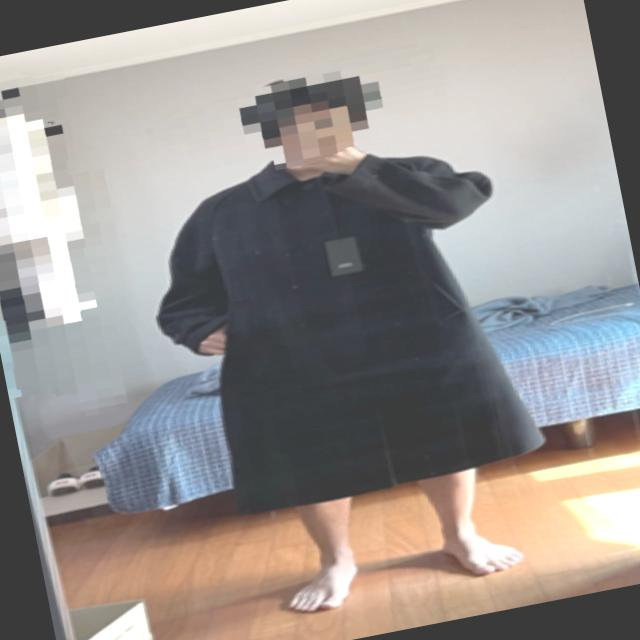cottonpants: (132, 119, 550, 525)
